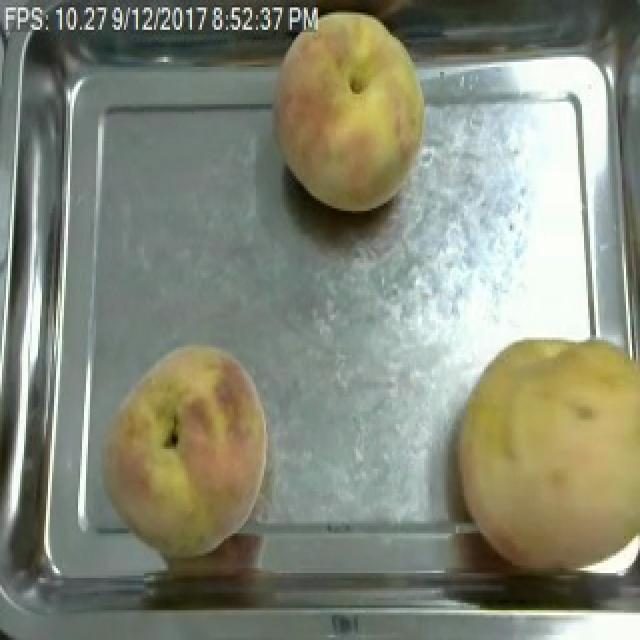Fruit: (444, 320, 640, 578), (86, 338, 278, 566), (264, 5, 438, 221)
